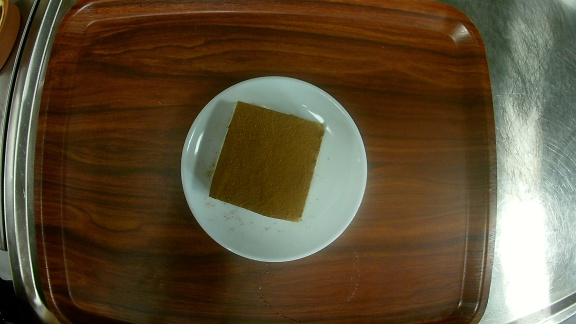tiramisu: (180, 76, 370, 264)
